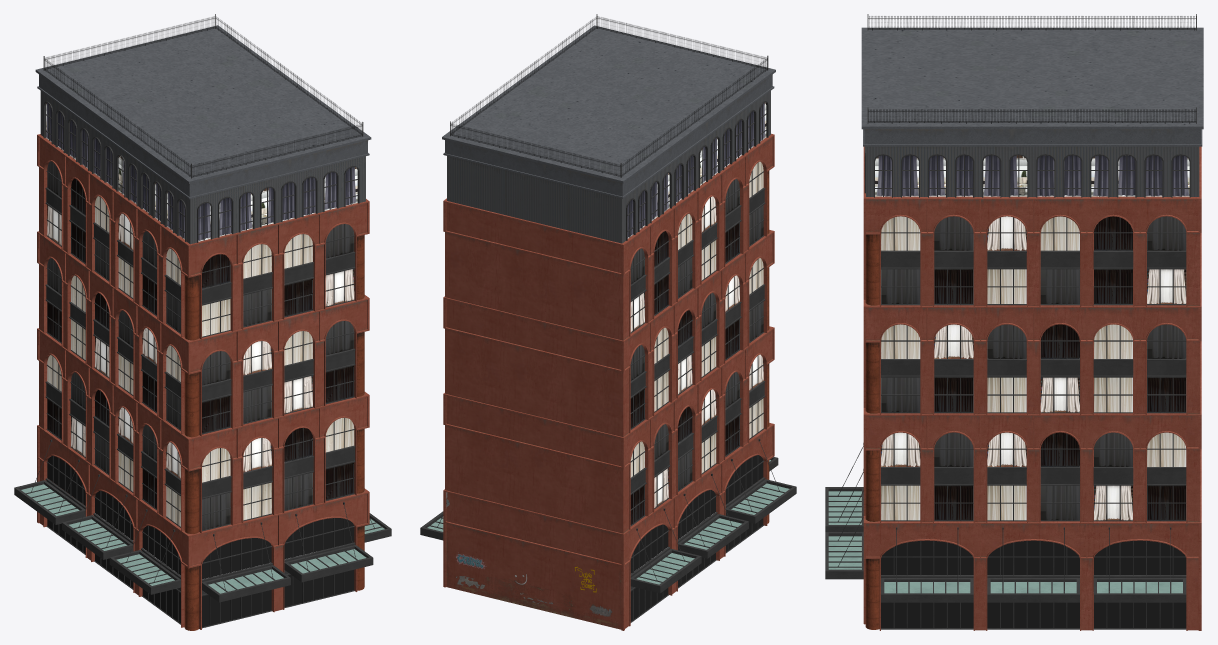
Rendered from tower.glb.
3 renders of one model, left to right at view 1: azimuth 30°, elevation 25°; view 2: azimuth 150°, elevation 25°; view 3: azimuth 270°, elevation 25°, orthographic. The views are drawn at different scales.
Parts seen in each view (by area): view 1: prop; view 2: prop; view 3: prop.
Part boxes in pixels (x1,y1,x2,y2): prop: [14, 14, 391, 630]; prop: [420, 14, 796, 630]; prop: [825, 14, 1203, 630].
Bounding box in the file's own units: 17.72 × 32.84 × 21.61.
Materials: 4 (4 with a texture image).
